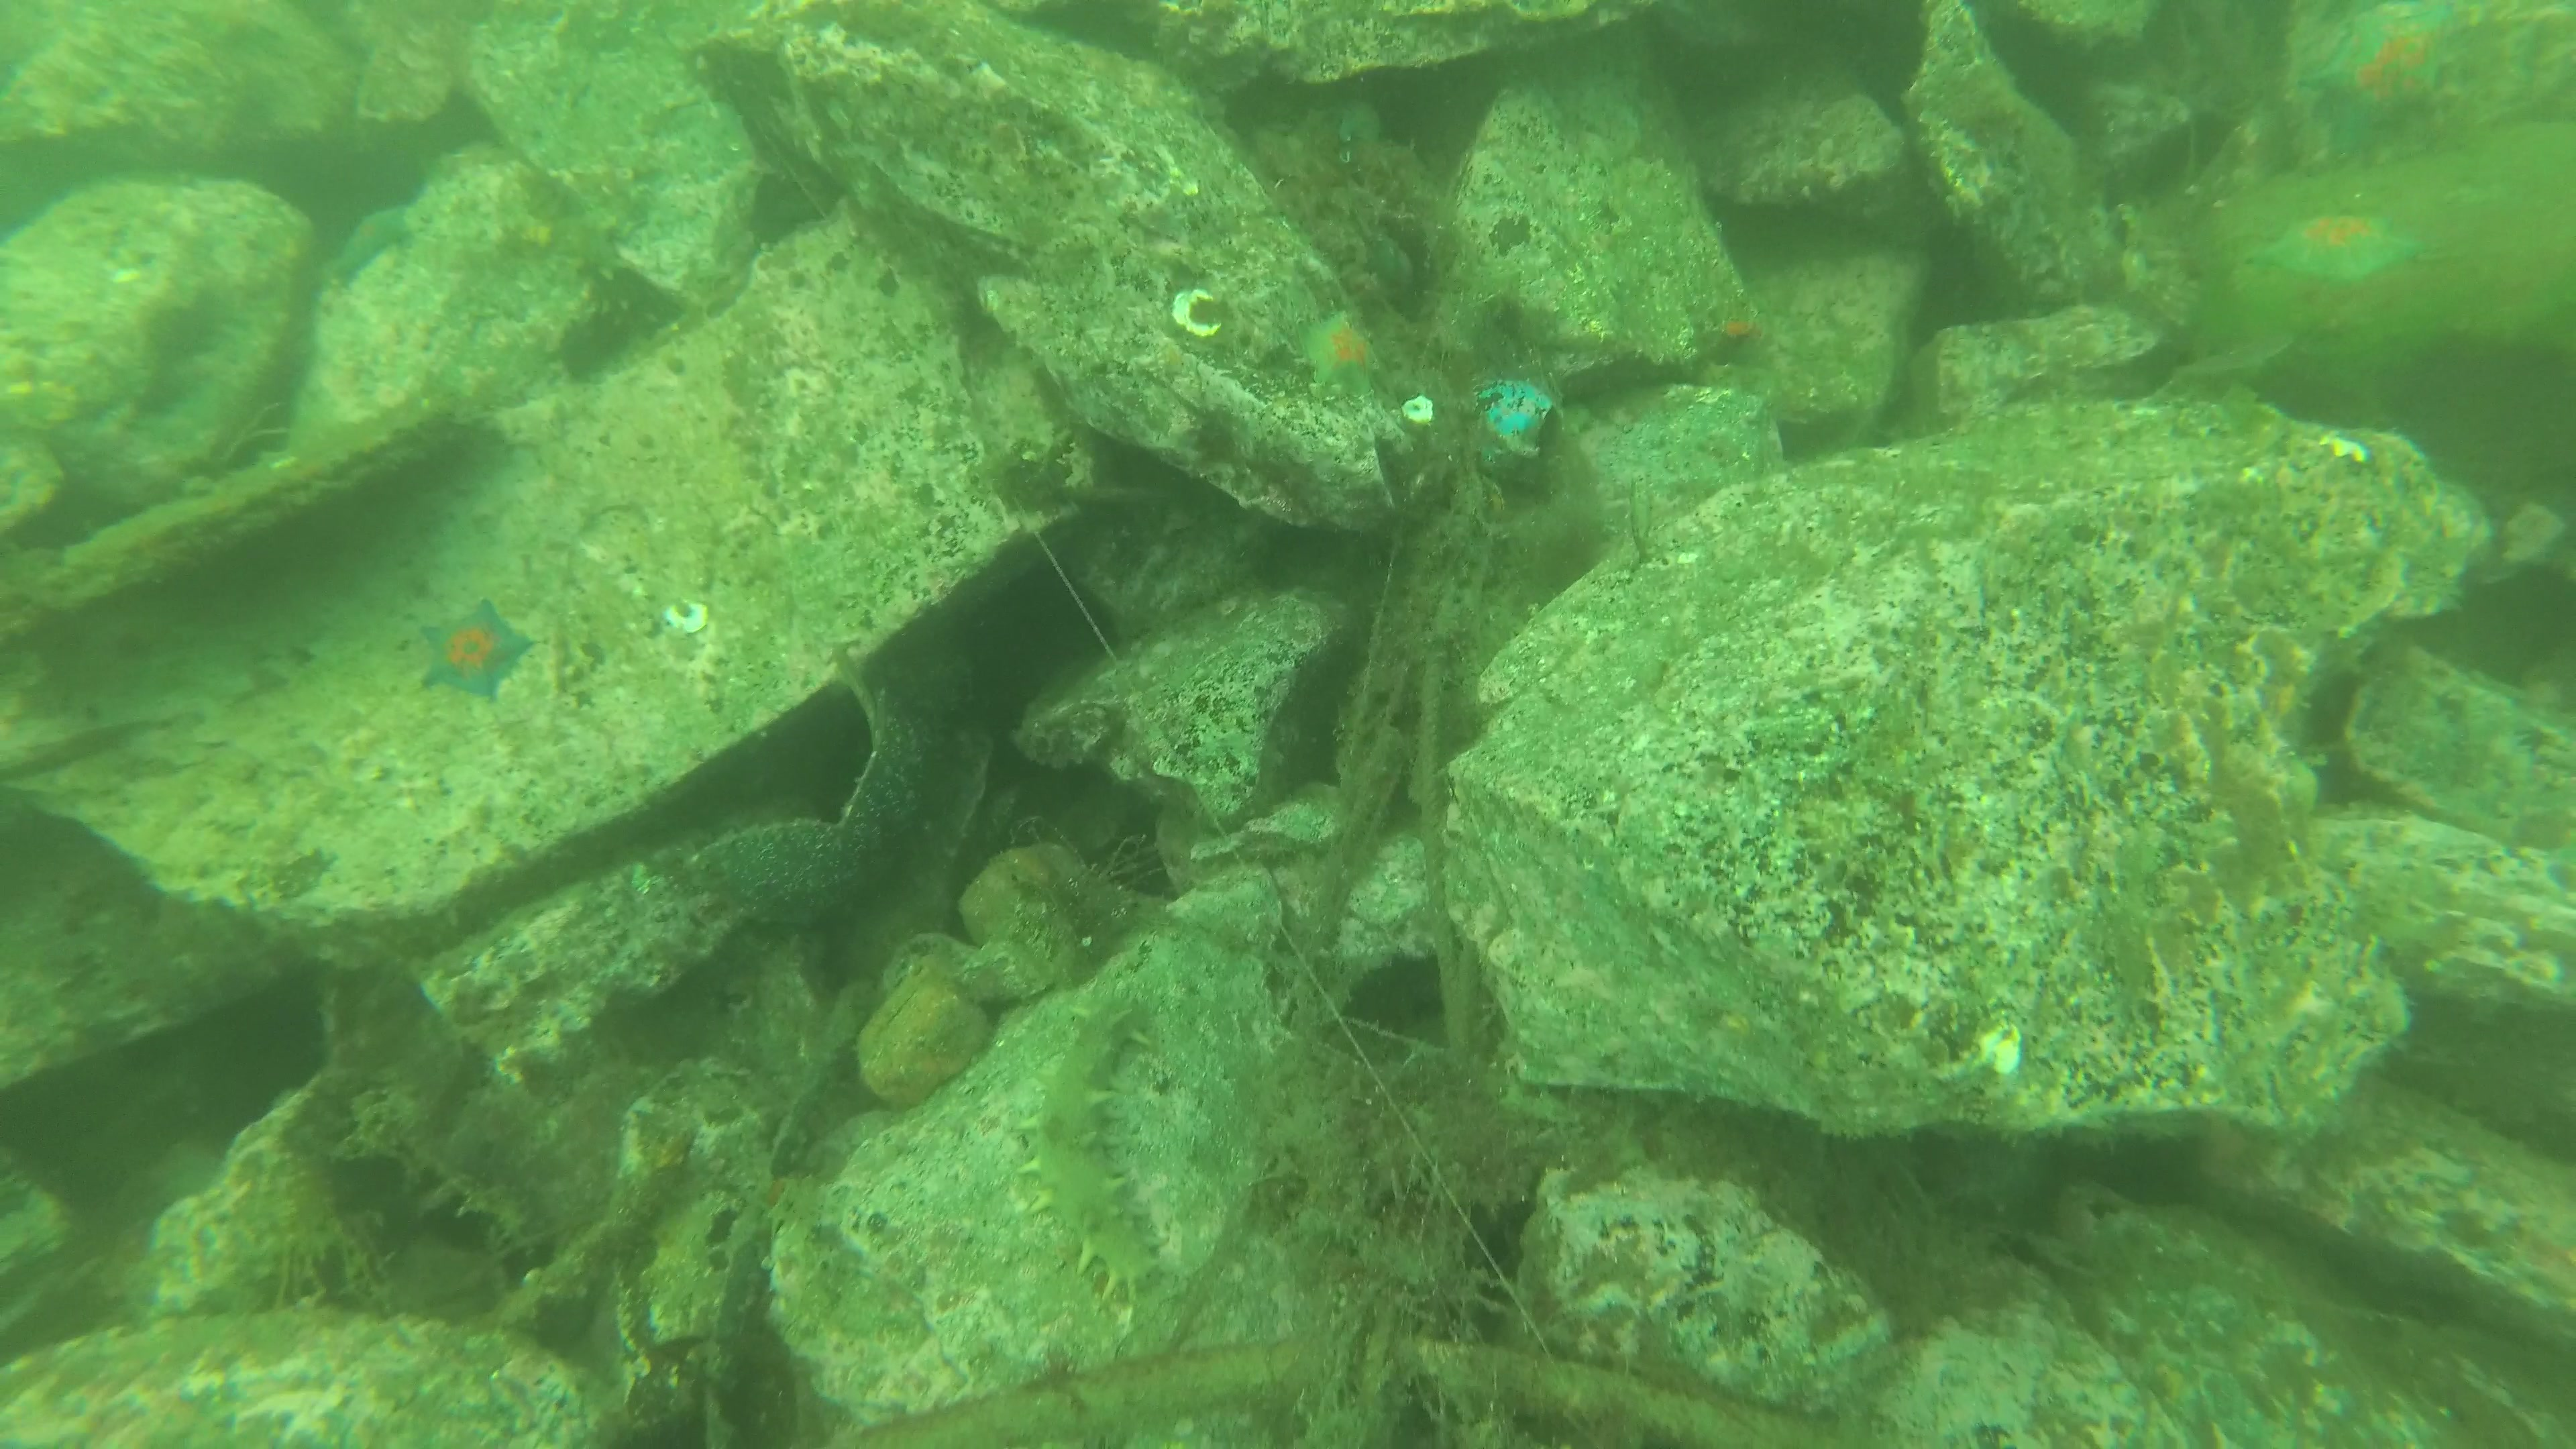holothurian: (1003, 989, 1171, 1304)
starfish: (2293, 0, 2472, 166), (410, 602, 536, 725), (2254, 207, 2413, 297), (1288, 306, 1391, 405)
